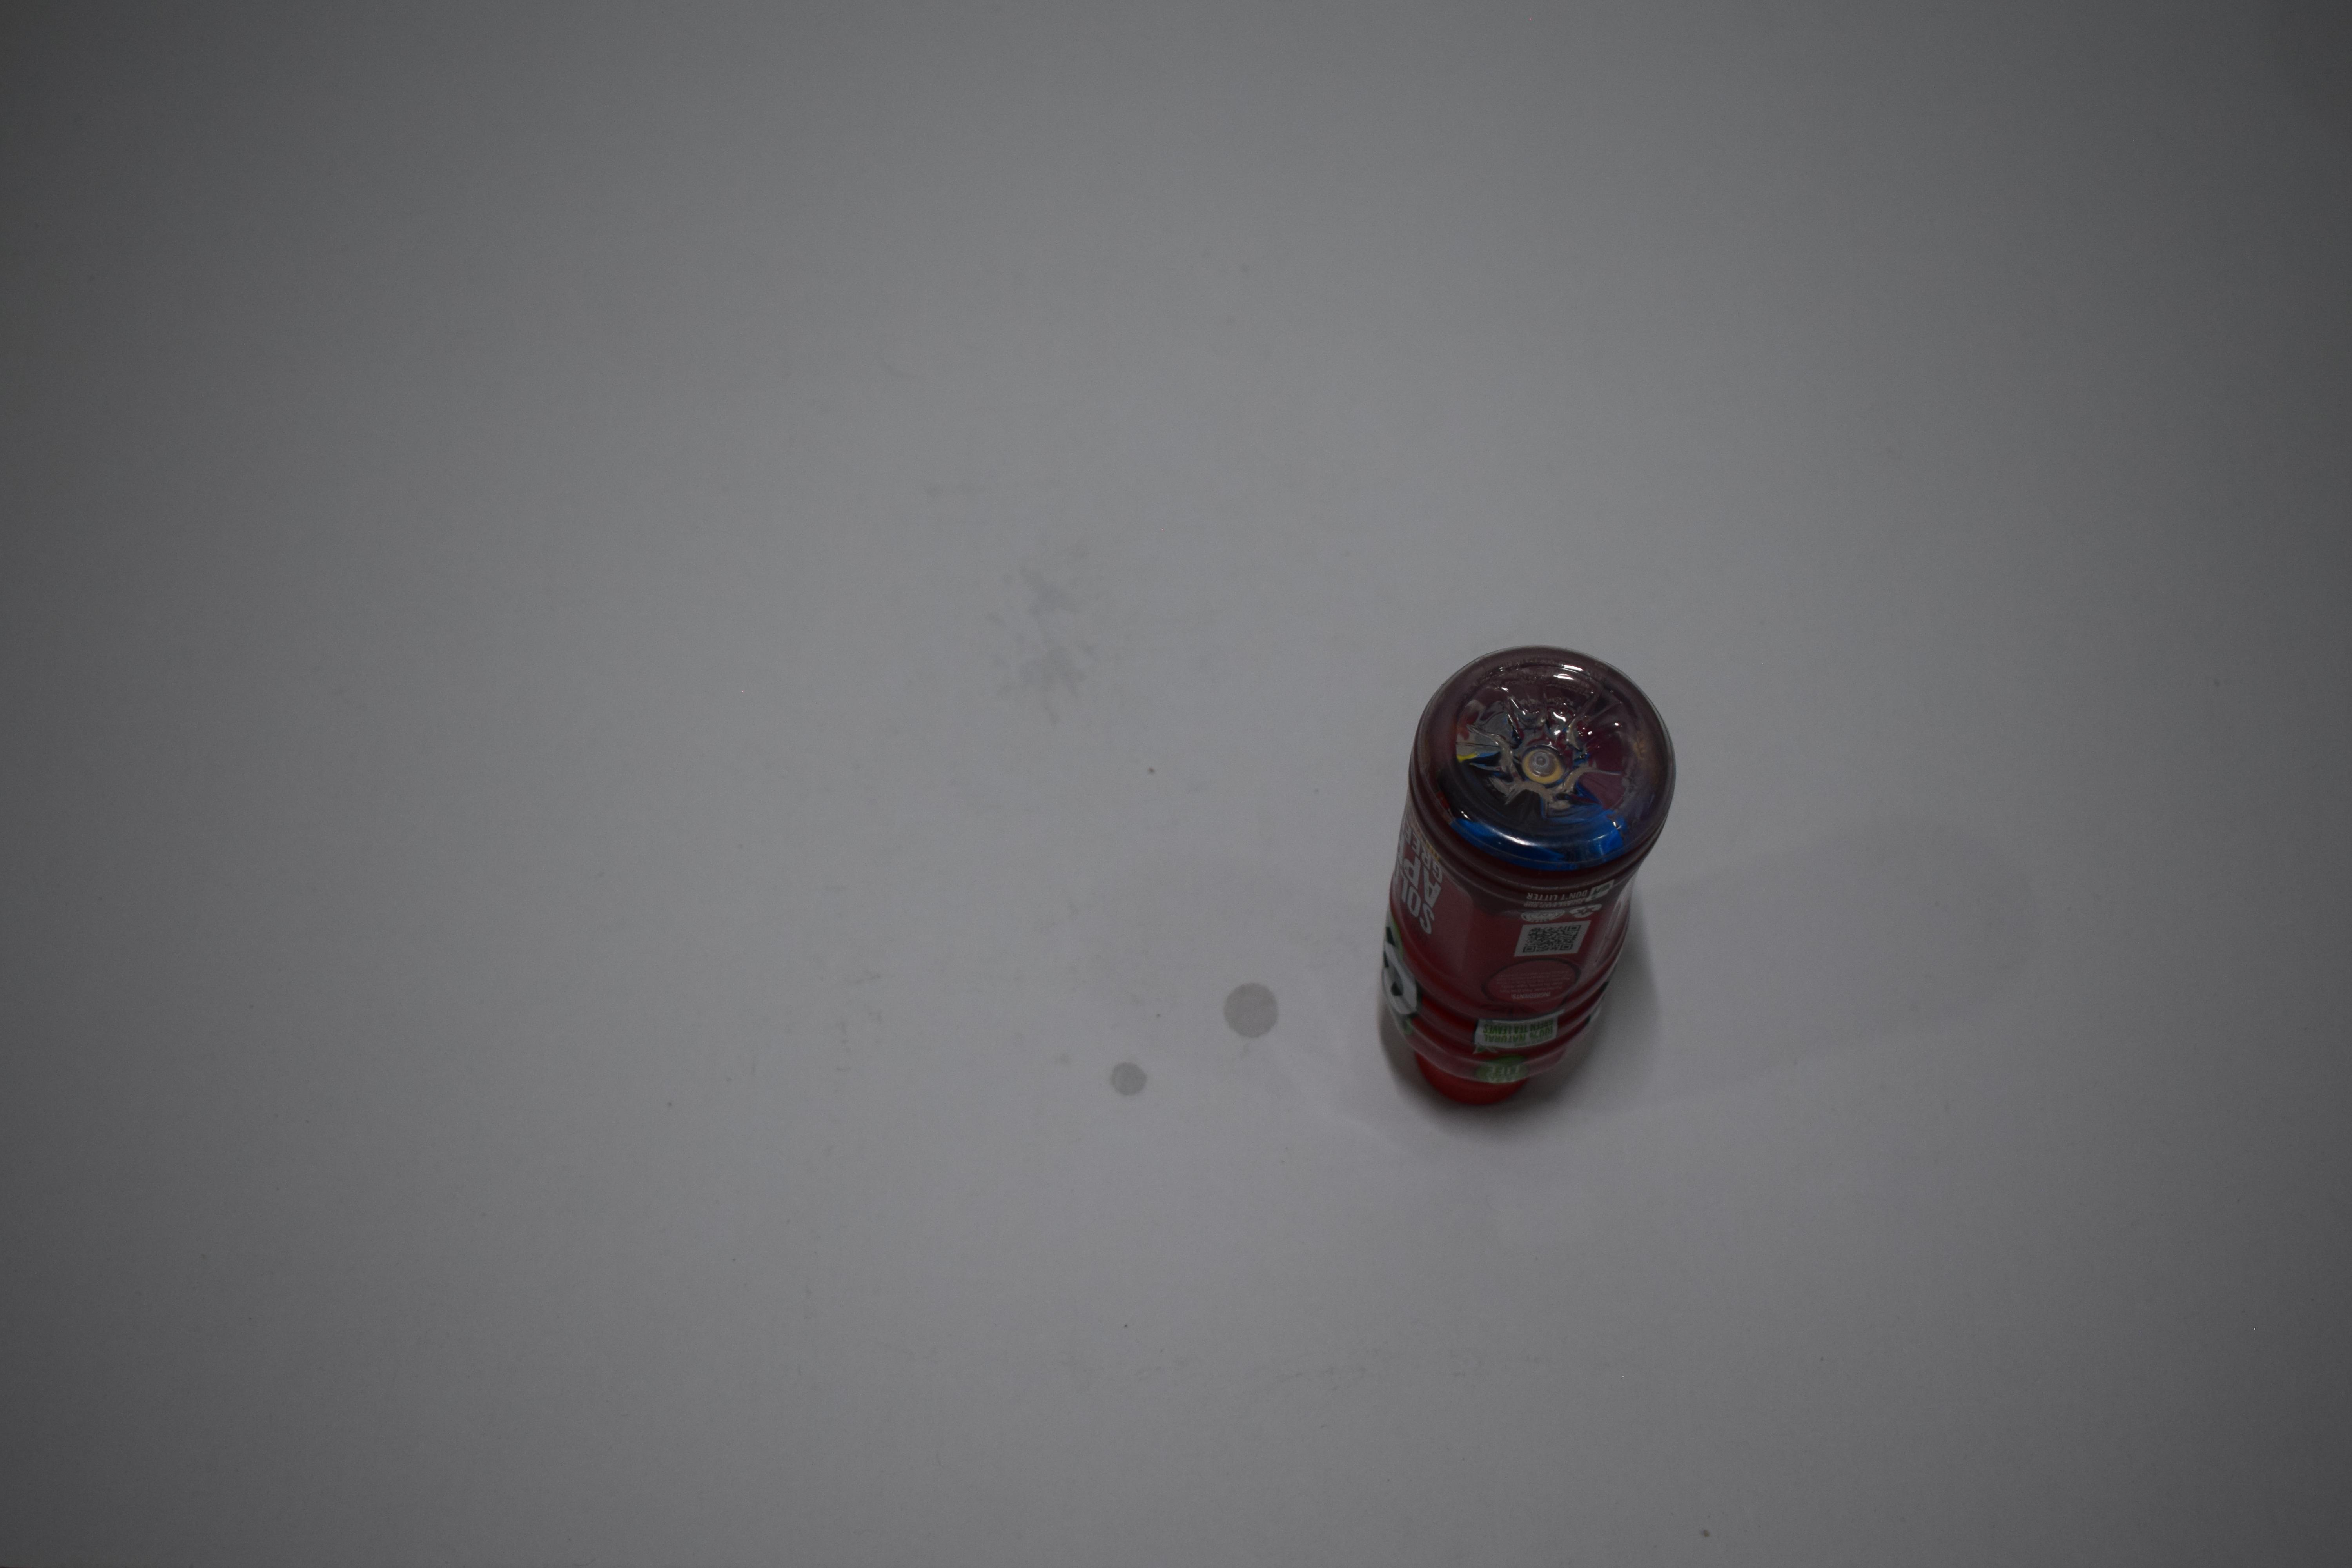bottle: (1369, 0, 1682, 338)
